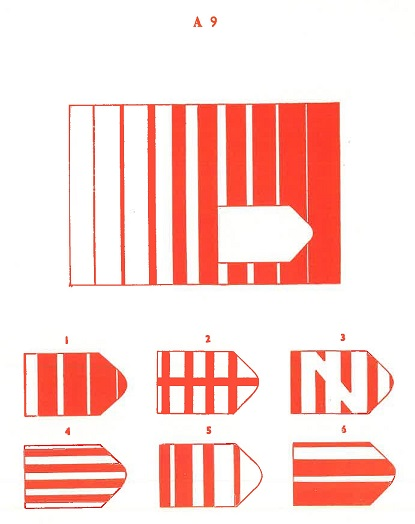Array 1: (20, 331, 133, 419)
Array 2: (149, 332, 265, 419)
Array 3: (283, 331, 397, 418)
Array 4: (19, 422, 134, 514)
Array 5: (150, 423, 268, 513)
Array 6: (286, 422, 400, 511)
Matrix: (64, 97, 345, 288)
Matrix Unknown: (215, 203, 315, 264)
